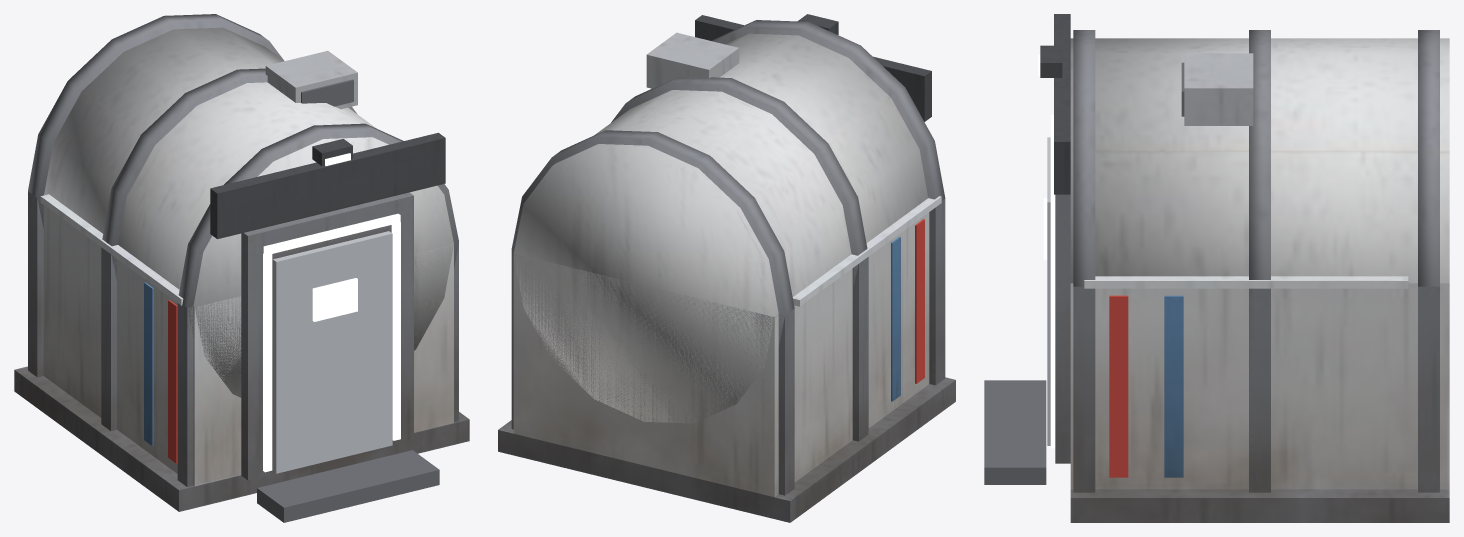
The model's file is seal_collar.glb.
The picture shows the model from 3 angles, left to right: view 1: azimuth 30°, elevation 25°; view 2: azimuth 150°, elevation 25°; view 3: azimuth 270°, elevation 25°; orthographic projection. The views are drawn at different scales.
Visible parts, largest first — view 1: CollarBody, CollarDoor; view 2: CollarBody; view 3: CollarBody, CollarDoor.
Boxes of the visible parts, bbox=[...] form: CollarBody: bbox=[14, 14, 469, 522]; CollarDoor: bbox=[273, 231, 392, 473]; CollarBody: bbox=[498, 14, 955, 522]; CollarBody: bbox=[984, 14, 1449, 522]; CollarDoor: bbox=[1047, 137, 1050, 445].
Size of the model in its own units: 2.8 by 3.2 by 3.38.
Materials: 12 (6 with a texture image).
